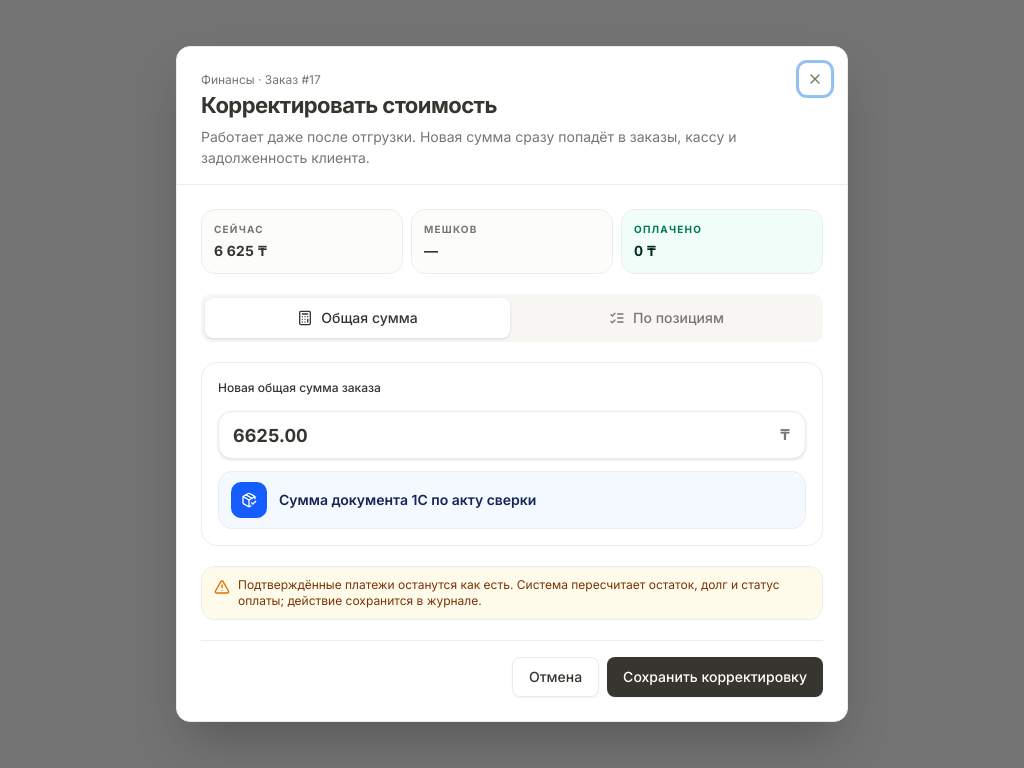
Test case: OrderPriceCorrectionModal › shows a reconciliation act line as its document, not as a bag, and still corrects it
The image size is (1024, 768).
Expected: the text "Сумма документа 1С по акту сверки" is shown, [279,490,536,510]
Click the button "По позициям" at (666, 318), box [514,298,819,338]
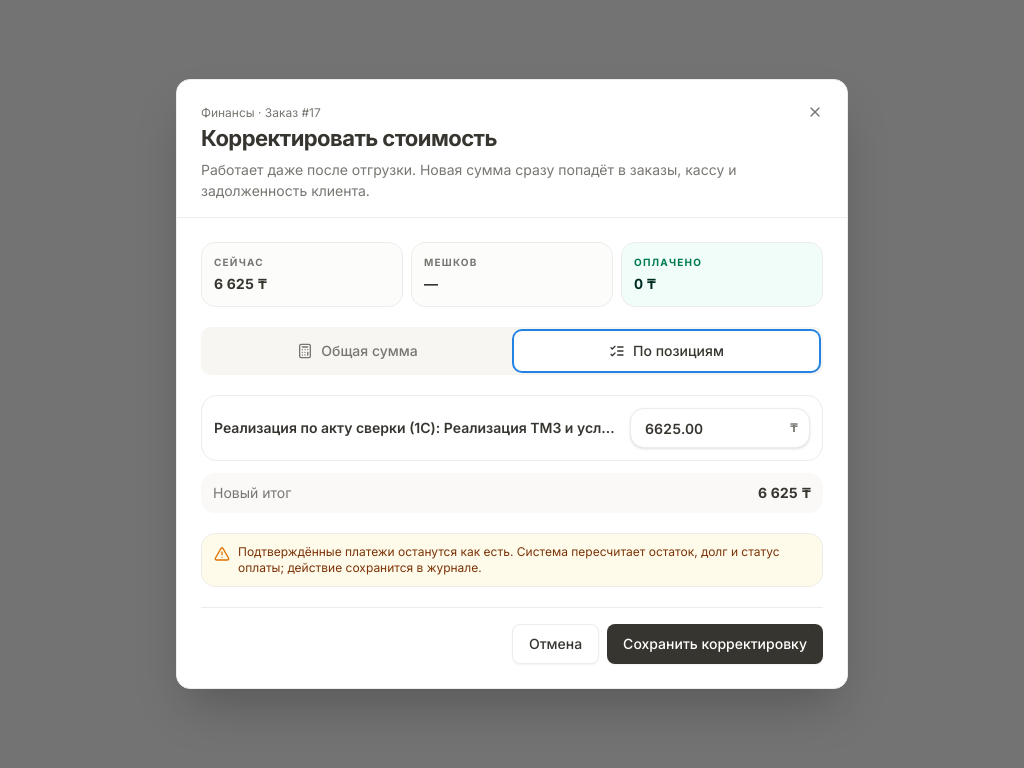
Now the text "Реализация по акту сверки (1С): Реализация ТМЗ и услуг 527 от 10.06.2026" is shown, box [214,418,618,438]
Now the number field named "Новая сумма документа, Реализация по акту сверки (1С)" is shown, box [630,408,810,448]
